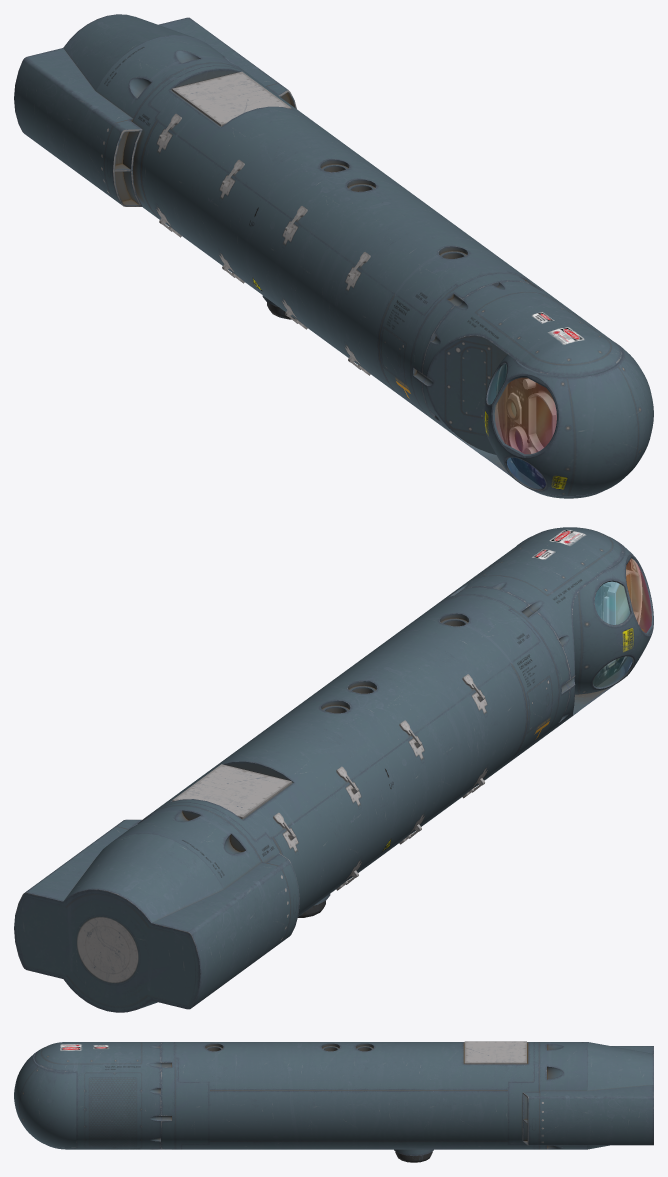
The model's file is rafael_litening.glb.
The picture shows the model from 3 angles, top to bottom: view 1: azimuth 30°, elevation 25°; view 2: azimuth 150°, elevation 25°; view 3: azimuth 270°, elevation 25°; orthographic projection. The views are drawn at different scales.
Visible parts, largest first — view 1: SAR_0; view 2: SAR_0; view 3: SAR_0.
Part boxes in pixels (x1=…): SAR_0: x1=14, y1=14, x2=653, y2=498; SAR_0: x1=14, y1=527, x2=653, y2=1012; SAR_0: x1=14, y1=1041, x2=653, y2=1162.
Size of the model in its own units: 0.512 by 0.4563 by 2.4.
2 materials, 2 textured.
